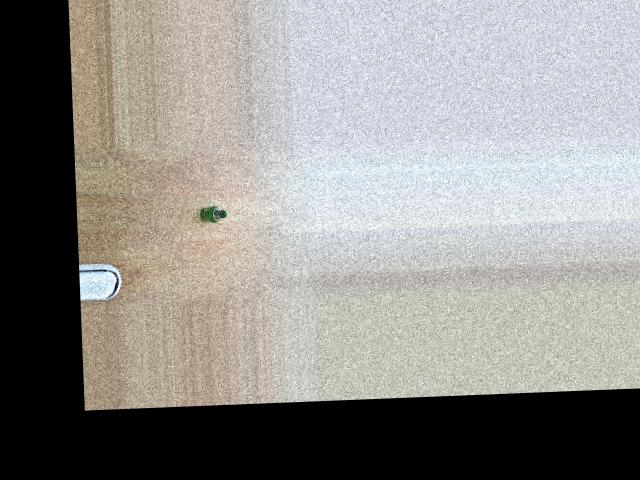beer: (199, 205, 226, 224)
